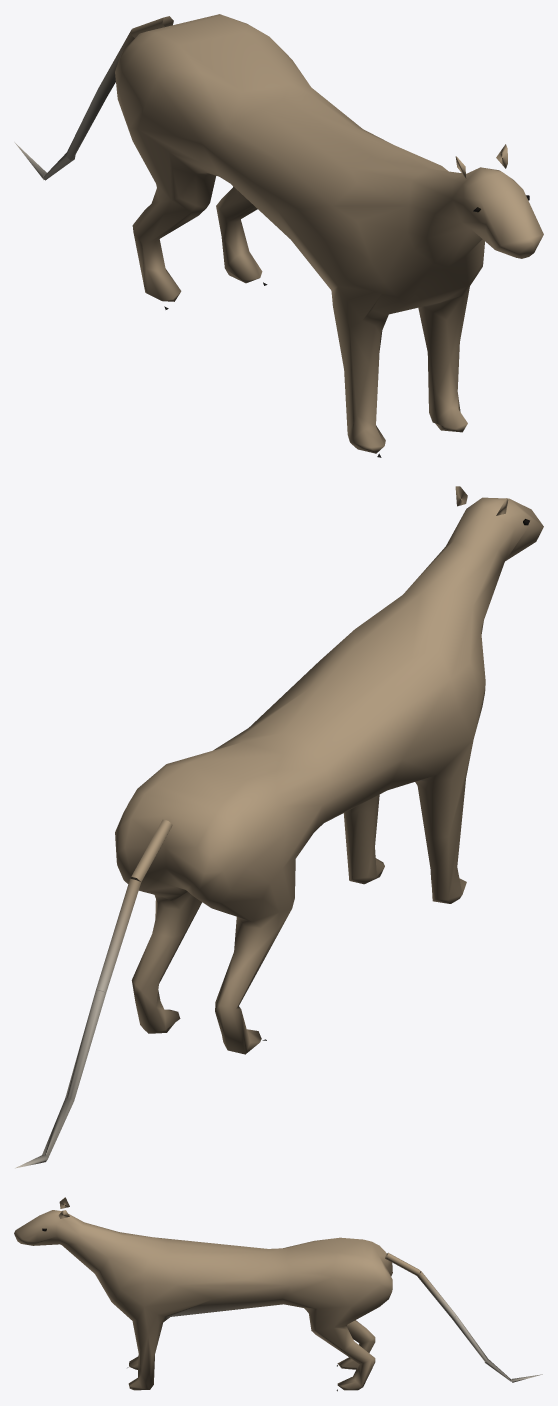
Rendered from puma.glb.
3 renders of one model, top to bottom at view 1: azimuth 30°, elevation 25°; view 2: azimuth 150°, elevation 25°; view 3: azimuth 270°, elevation 25°, orthographic. The views are drawn at different scales.
Visible parts, largest first — view 1: lack; view 2: lack; view 3: lack.
Boxes of the visible parts, x1,y1,x2,y2 form: lack: (14,14,543,457); lack: (15,486,543,1168); lack: (14,1197,542,1391).
Bounding box in the file's own units: 0.4012 × 0.9208 × 2.47.
